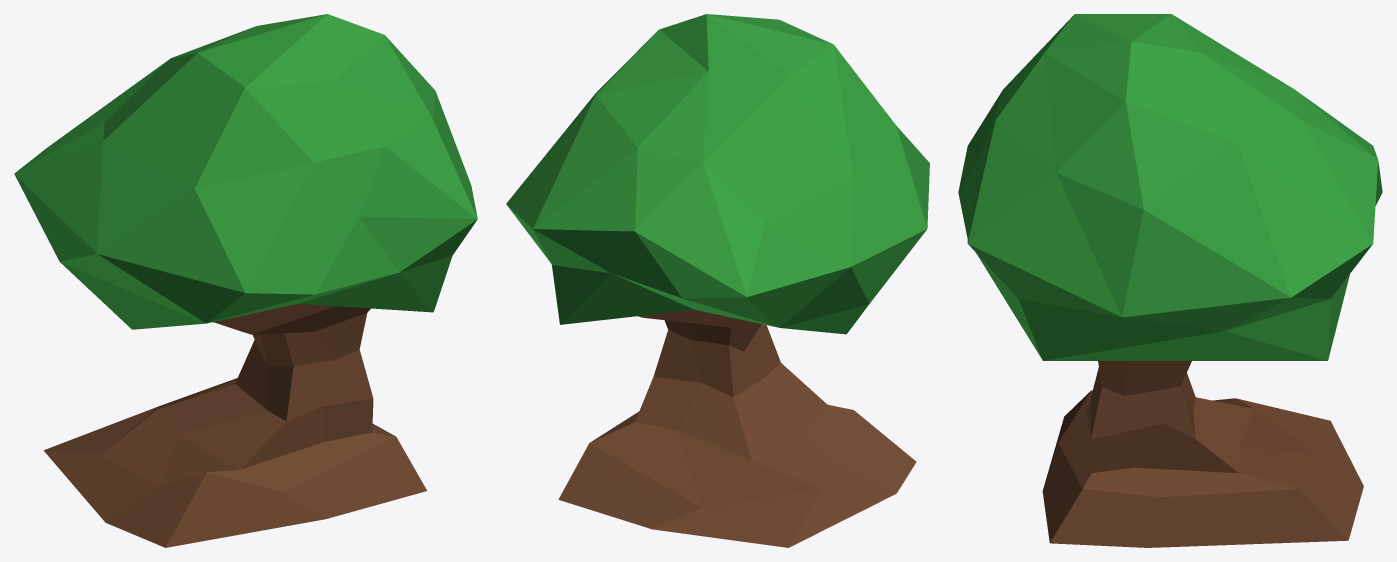
Rendered from Tree_25_Green.fbx.
The picture shows the model from 3 angles, left to right: view 1: azimuth 30°, elevation 25°; view 2: azimuth 150°, elevation 25°; view 3: azimuth 270°, elevation 25°; orthographic projection. The views are drawn at different scales.
Visible parts, largest first — view 1: Tree_25_Green_Part_1, Tree_25_Green_Part_3, Tree_25_Green_Part_2; view 2: Tree_25_Green_Part_1, Tree_25_Green_Part_3, Tree_25_Green_Part_2; view 3: Tree_25_Green_Part_1, Tree_25_Green_Part_3, Tree_25_Green_Part_2.
Boxes of the visible parts, bbox=[...] form: Tree_25_Green_Part_1: bbox=[14, 14, 477, 329]; Tree_25_Green_Part_3: bbox=[43, 378, 426, 547]; Tree_25_Green_Part_2: bbox=[158, 304, 373, 469]; Tree_25_Green_Part_1: bbox=[506, 14, 929, 334]; Tree_25_Green_Part_3: bbox=[558, 405, 916, 547]; Tree_25_Green_Part_2: bbox=[635, 309, 827, 460]; Tree_25_Green_Part_1: bbox=[958, 14, 1382, 360]; Tree_25_Green_Part_3: bbox=[1042, 390, 1363, 547]; Tree_25_Green_Part_2: bbox=[1087, 361, 1254, 473].
Bounding box in the file's own units: 666 × 786 × 641.
